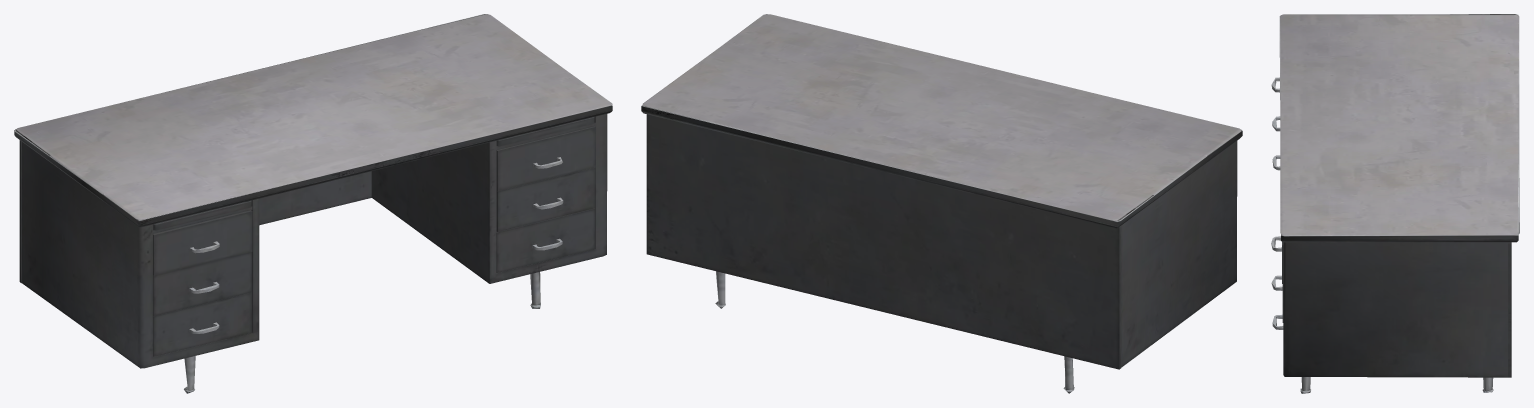
The model's file is metal_office_desk.glb.
The picture shows the model from 3 angles, left to right: view 1: azimuth 30°, elevation 25°; view 2: azimuth 150°, elevation 25°; view 3: azimuth 270°, elevation 25°; orthographic projection. The views are drawn at different scales.
Visible parts, largest first — view 1: metal_office_desk, metal_office_desk_drawer_04, metal_office_desk_drawer_01, metal_office_desk_drawer_03, metal_office_desk_drawer_02, metal_office_desk_drawer_06, metal_office_desk_drawer_05, metal_office_desk_tray_01, metal_office_desk_tray_02; view 2: metal_office_desk; view 3: metal_office_desk.
Part boxes in pixels (bbox=[...]): metal_office_desk: bbox=[14, 14, 612, 393]; metal_office_desk_drawer_04: bbox=[153, 210, 252, 275]; metal_office_desk_drawer_01: bbox=[496, 126, 595, 191]; metal_office_desk_drawer_03: bbox=[496, 208, 595, 272]; metal_office_desk_drawer_02: bbox=[496, 167, 595, 231]; metal_office_desk_drawer_06: bbox=[153, 292, 251, 356]; metal_office_desk_drawer_05: bbox=[153, 252, 251, 315]; metal_office_desk_tray_01: bbox=[153, 200, 251, 230]; metal_office_desk_tray_02: bbox=[496, 117, 594, 146]; metal_office_desk: bbox=[641, 14, 1242, 393]; metal_office_desk: bbox=[1279, 14, 1519, 393].
Bounding box in the file's own units: 1.99 × 0.7868 × 0.945.
Materials: 1 (1 with a texture image).
